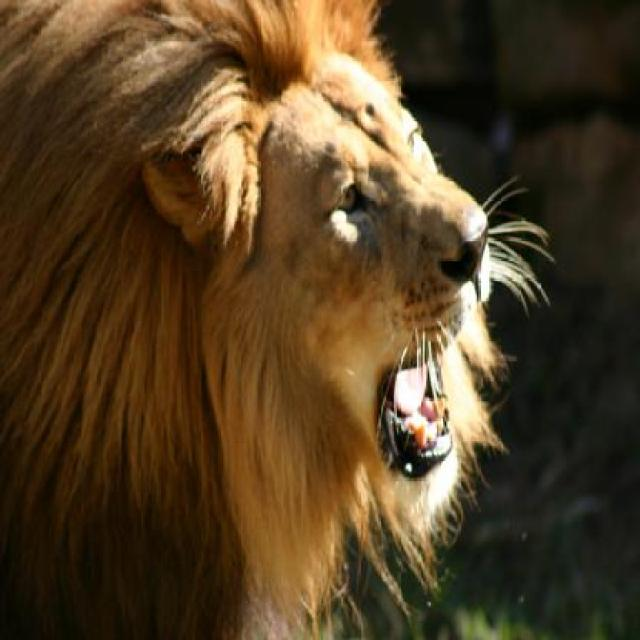Lion: (1, 4, 552, 638)
